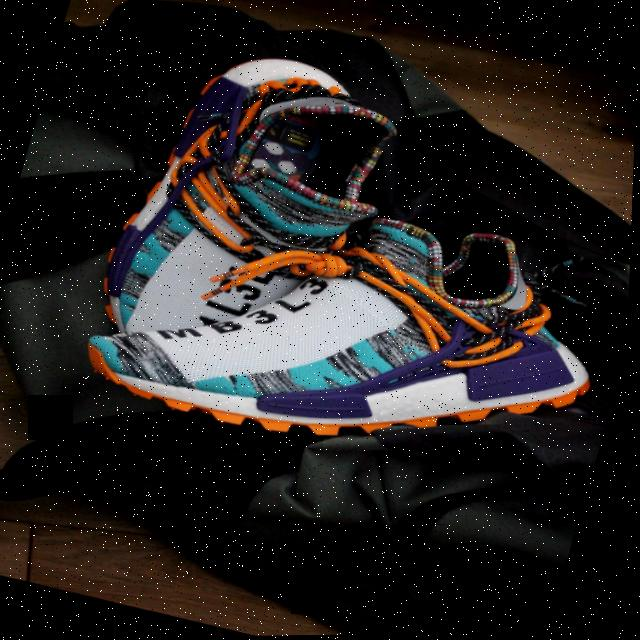shoes: (59, 130, 636, 533), (77, 11, 429, 405)
